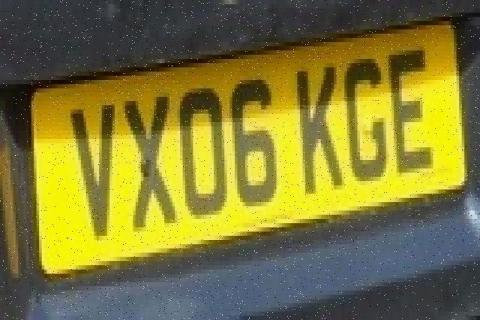LicensePlate: (54, 61, 472, 239)
